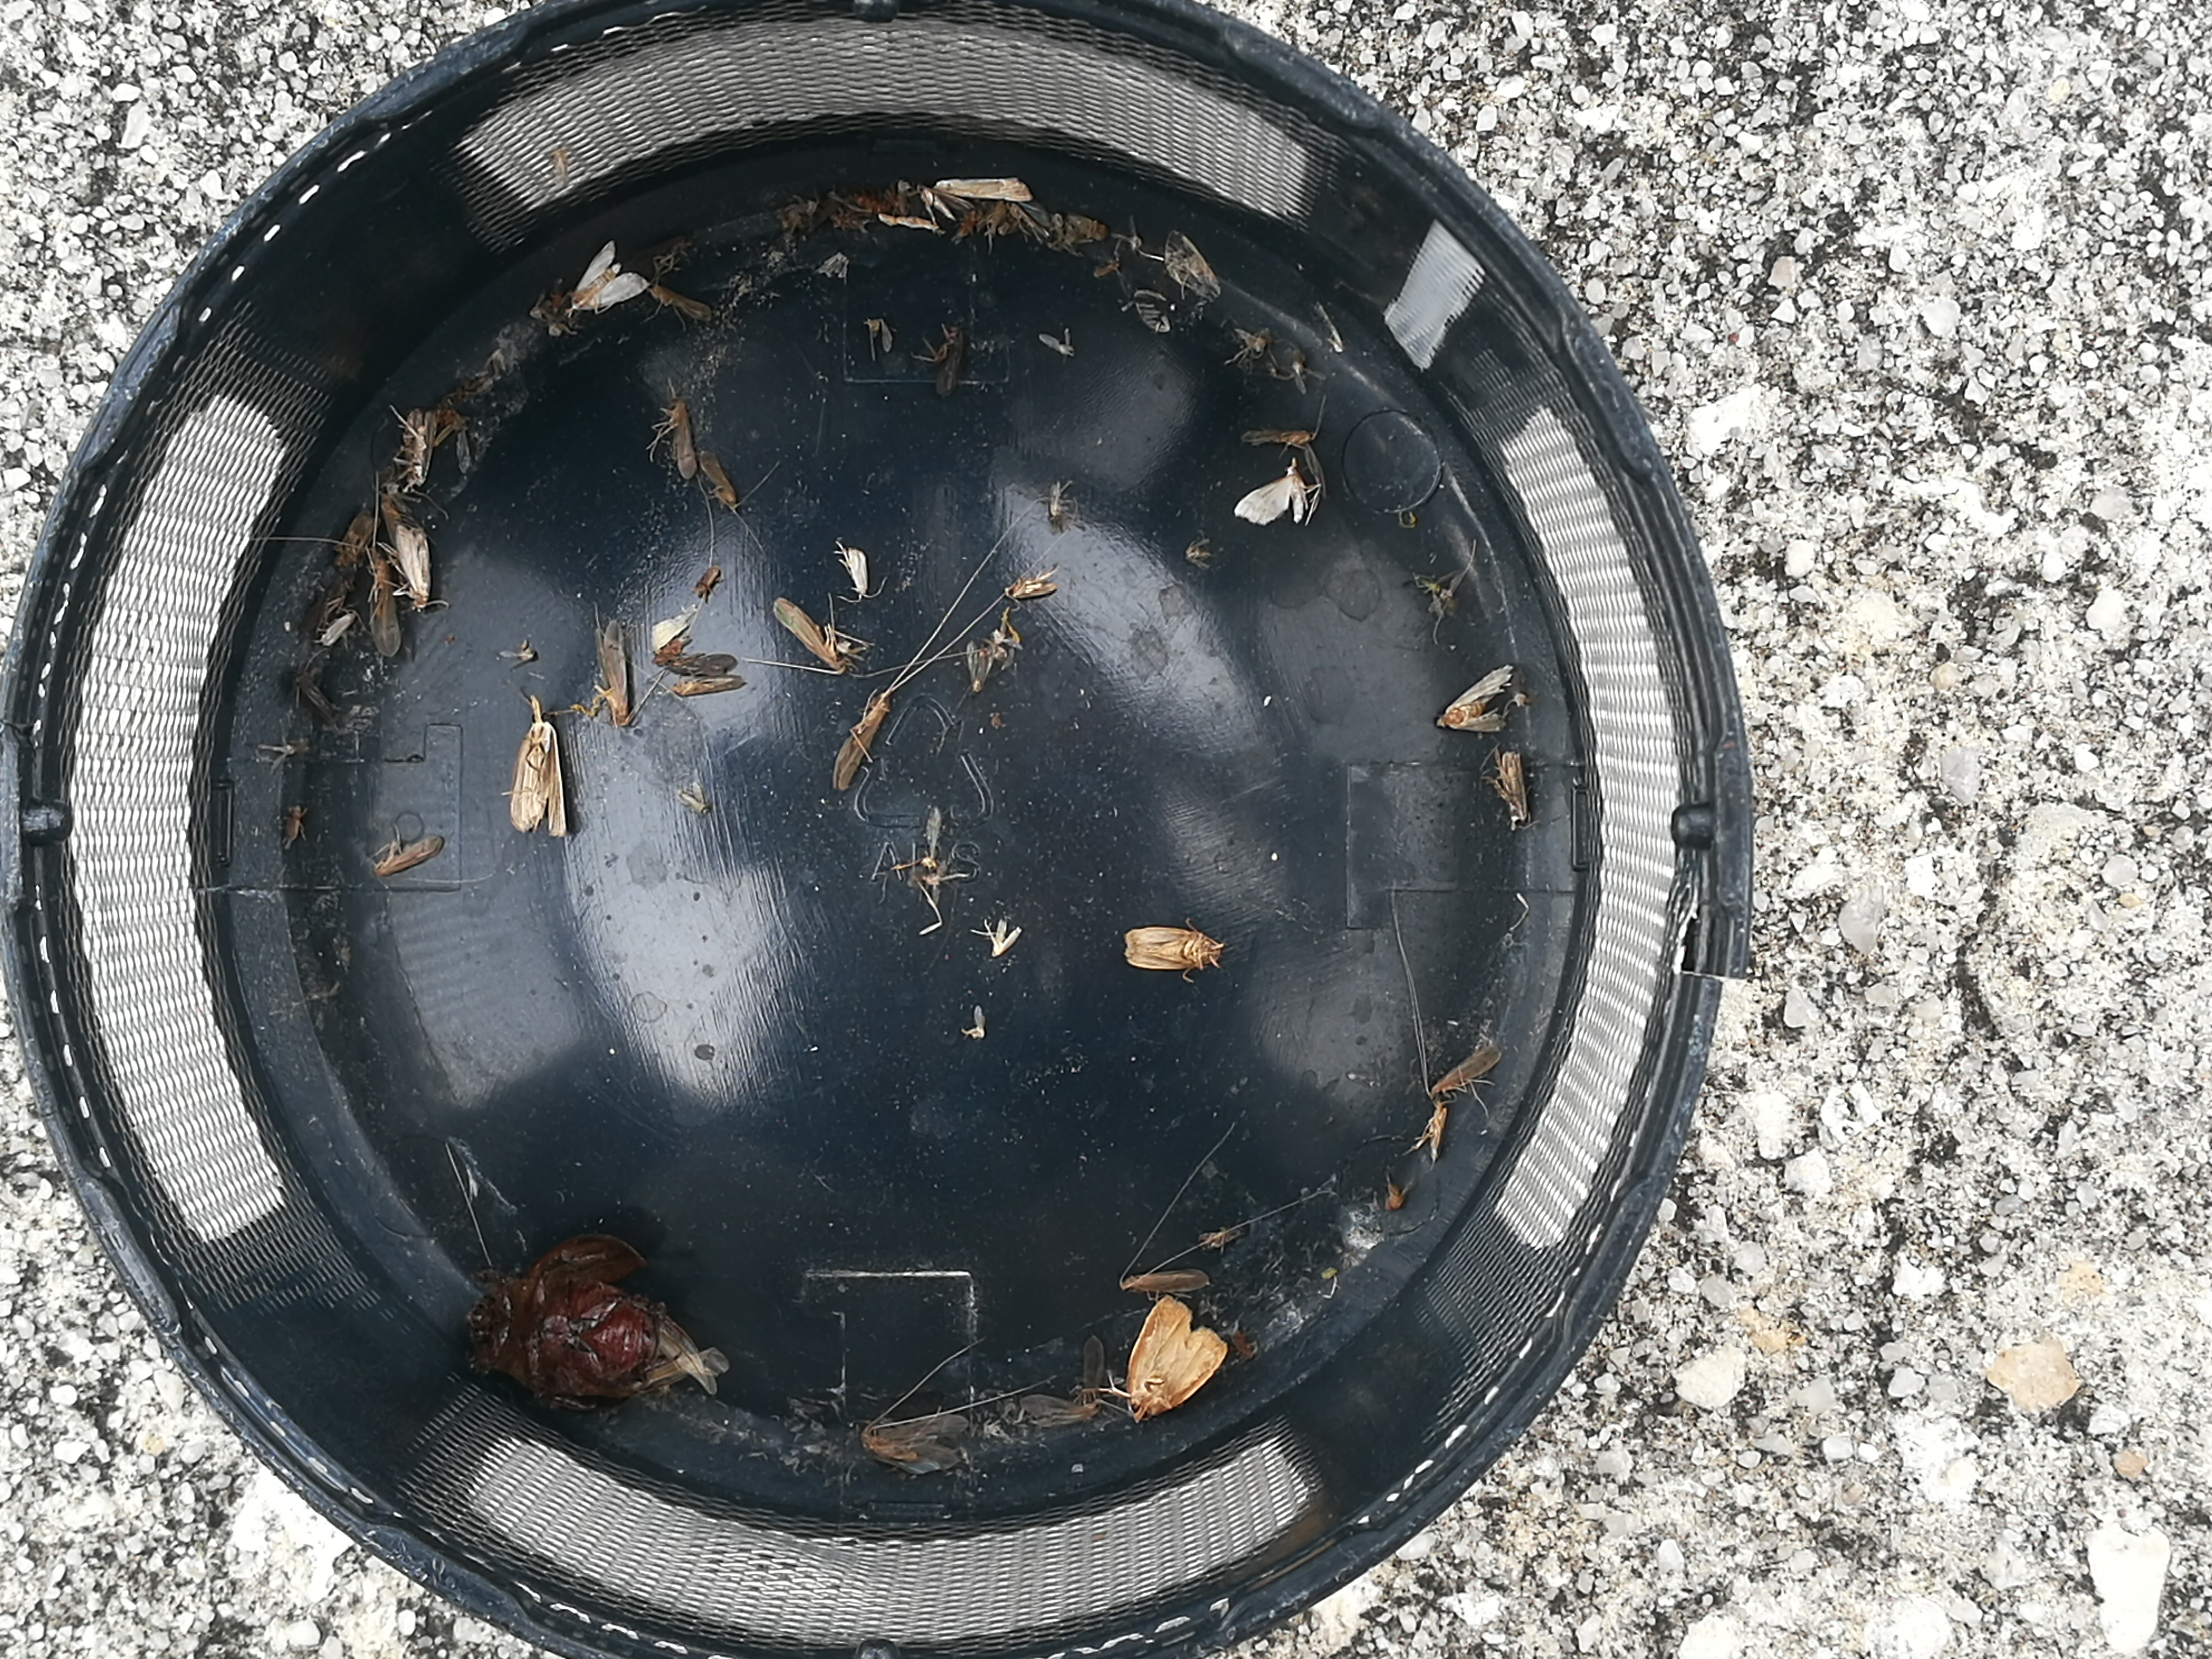beetle: (477, 1286, 657, 1396)
mosquito: (833, 690, 890, 791), (775, 603, 846, 673), (601, 622, 631, 727), (1432, 1049, 1493, 1100), (376, 835, 442, 878), (371, 559, 399, 655), (698, 451, 742, 511), (399, 533, 430, 608), (404, 413, 432, 488), (1501, 751, 1527, 828), (669, 394, 693, 474), (671, 673, 747, 697), (1122, 1269, 1211, 1290), (1240, 427, 1315, 444), (672, 653, 726, 671)
moth: (1127, 1300, 1230, 1417), (1019, 1335, 1103, 1427), (864, 1412, 968, 1476), (510, 723, 566, 838), (568, 242, 648, 310), (1437, 667, 1512, 732), (1233, 464, 1305, 526), (1123, 929, 1214, 971)
